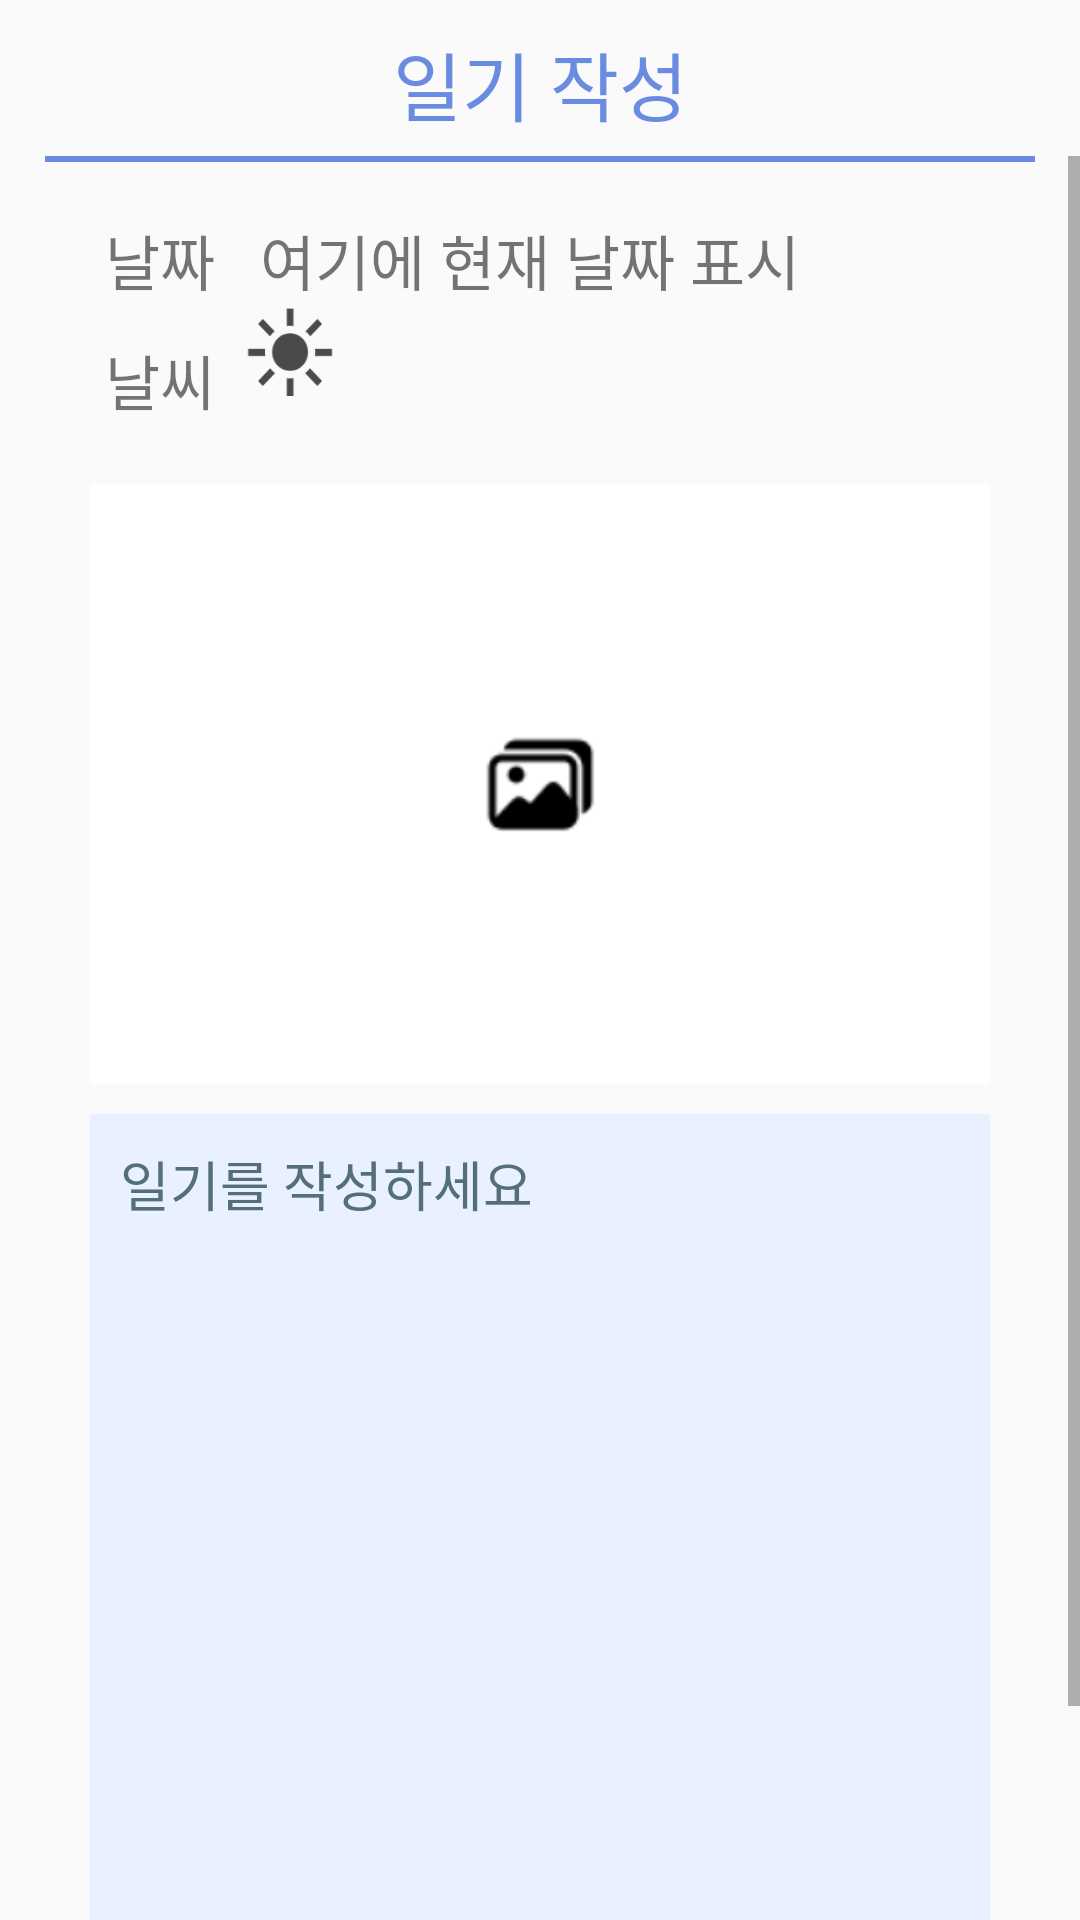

Icons on this 1080x1920 Android screen, each with the point to tap as [x,y]:
sunny: [290,352]
